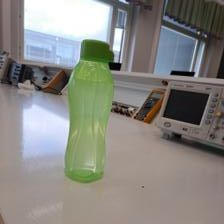bottle: (62, 38, 117, 187)
